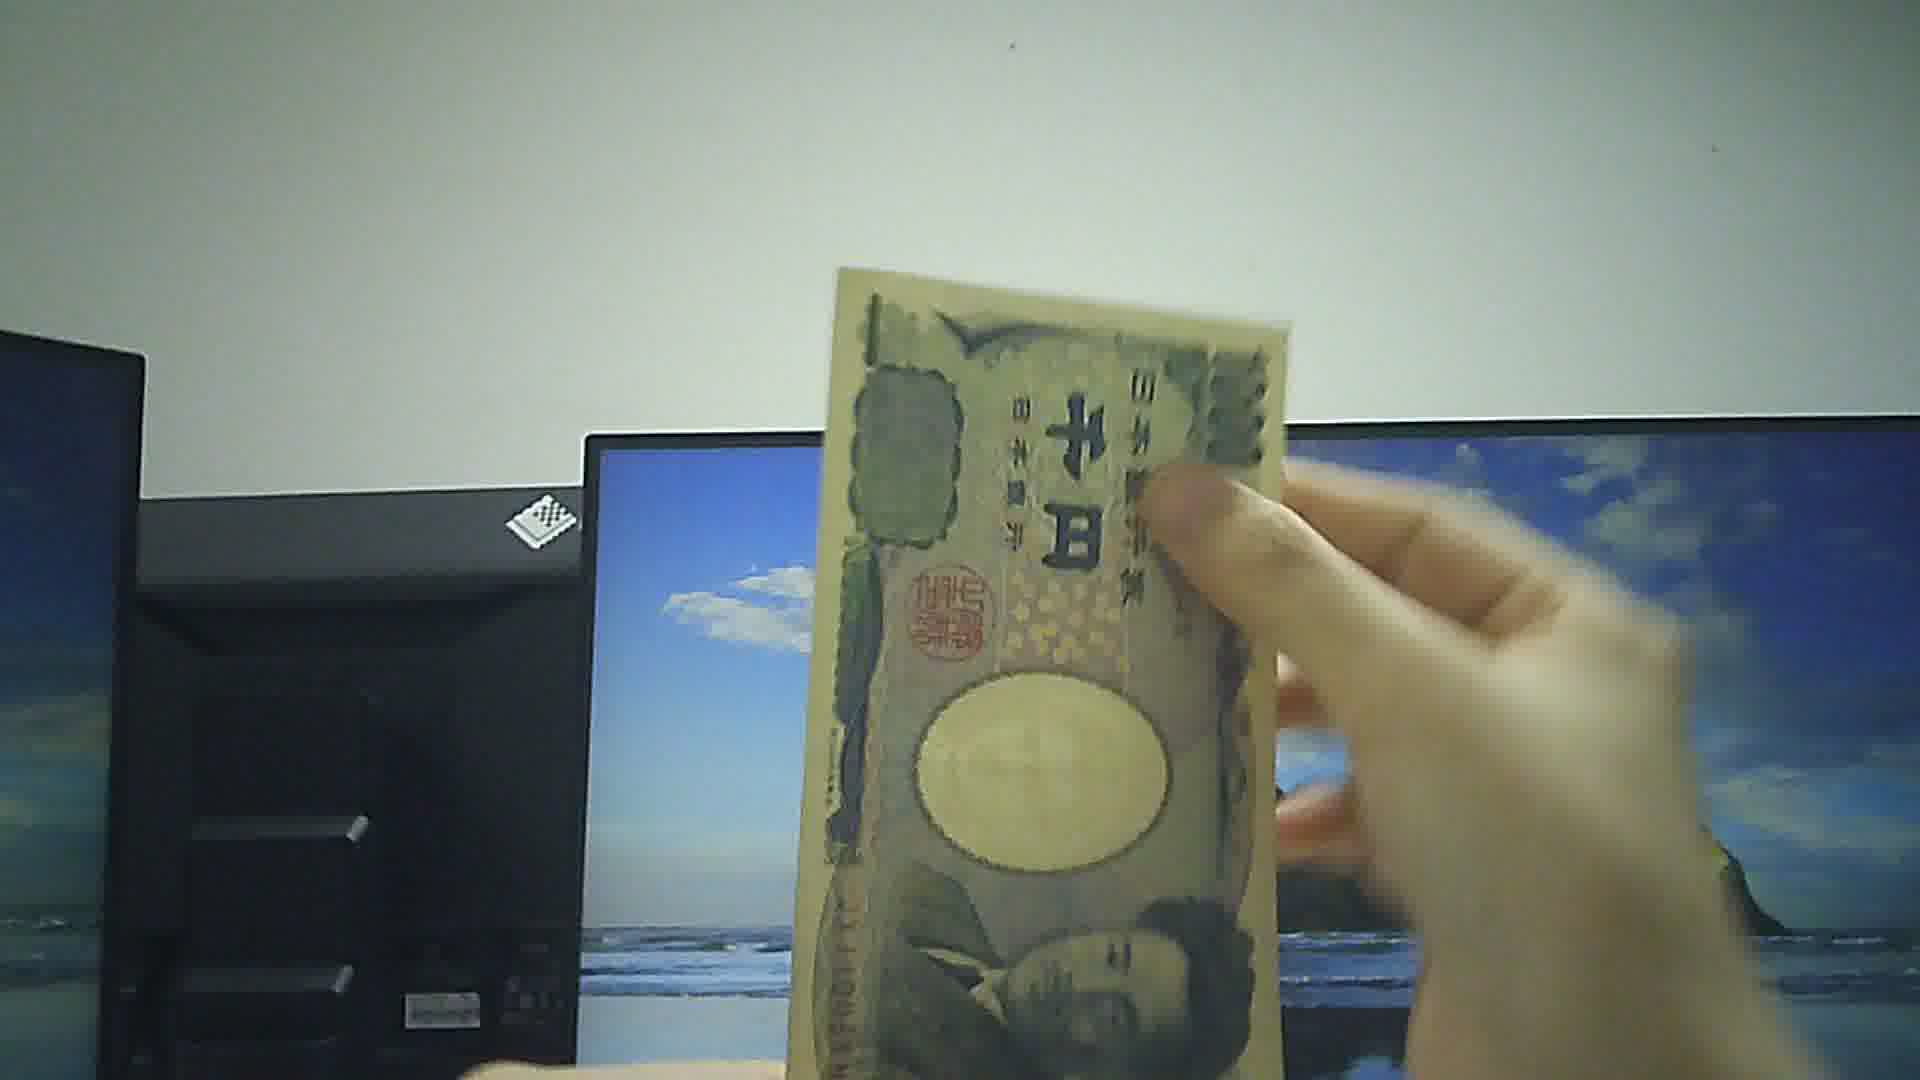1,000 Yen: (808, 256, 1284, 1079)
